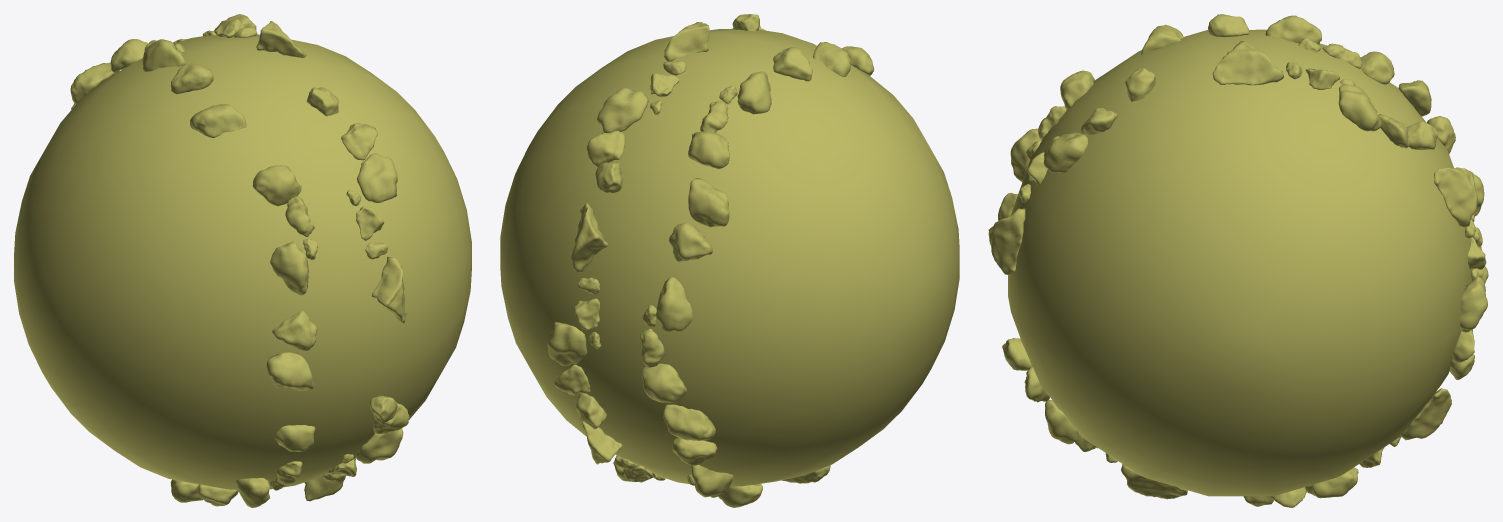
The model's file is Plant01.fbx.
The picture shows the model from 3 angles, left to right: view 1: azimuth 30°, elevation 25°; view 2: azimuth 150°, elevation 25°; view 3: azimuth 270°, elevation 25°; orthographic projection. The views are drawn at different scales.
Parts seen in each view (by area): view 1: pSphere5, moss_rock_002 (×4), moss_rock_006 (×3), moss_rock_001 (×3), moss_rock_008 (×3), moss_rock_010 (×3), moss_rock_007 (×2), moss_rock_009 (×2), moss_rock_013 (×2), moss_rock_003, moss_rock_012; view 2: pSphere5, moss_rock_002 (×3), moss_rock_001 (×4), moss_rock_006 (×3), moss_rock_008 (×3), moss_rock_010 (×3), moss_rock_007 (×2), moss_rock_009 (×2), moss_rock_013 (×2), moss_rock_003 (×2), moss_rock_012 (×2); view 3: pSphere5, moss_rock_008 (×5), moss_rock_007 (×5), moss_rock_013 (×3), moss_rock_006 (×2), moss_rock_001 (×2), moss_rock_002 (×2), moss_rock_010 (×2), moss_rock_009 (×2).
Part boxes in pixels (left/top/right/bottom): pSphere5: left=14, top=34, right=471, bottom=489; moss_rock_002 (×4): left=70, top=62, right=313, bottom=502; moss_rock_006 (×3): left=142, top=39, right=309, bottom=507; moss_rock_001 (×3): left=110, top=39, right=315, bottom=451; moss_rock_008 (×3): left=256, top=21, right=407, bottom=501; moss_rock_010 (×3): left=170, top=63, right=317, bottom=506; moss_rock_007 (×2): left=356, top=153, right=403, bottom=463; moss_rock_009 (×2): left=341, top=123, right=409, bottom=433; moss_rock_013 (×2): left=306, top=87, right=397, bottom=424; moss_rock_003: left=285, top=196, right=314, bottom=236; moss_rock_012: left=356, top=206, right=384, bottom=240; pSphere5: left=500, top=28, right=959, bottom=486; moss_rock_002 (×3): left=663, top=42, right=850, bottom=440; moss_rock_001 (×4): left=640, top=46, right=874, bottom=507; moss_rock_006 (×3): left=656, top=71, right=771, bottom=497; moss_rock_008 (×3): left=570, top=22, right=709, bottom=464; moss_rock_010 (×3): left=669, top=47, right=812, bottom=465; moss_rock_007 (×2): left=547, top=87, right=648, bottom=366; moss_rock_009 (×2): left=554, top=130, right=624, bottom=395; moss_rock_013 (×2): left=576, top=162, right=622, bottom=429; moss_rock_003 (×2): left=640, top=101, right=728, bottom=367; moss_rock_012 (×2): left=574, top=73, right=679, bottom=330; pSphere5: left=1008, top=29, right=1473, bottom=496; moss_rock_008 (×5): left=988, top=41, right=1477, bottom=499; moss_rock_007 (×5): left=1043, top=84, right=1487, bottom=498; moss_rock_013 (×3): left=1002, top=68, right=1438, bottom=370; moss_rock_006 (×2): left=1010, top=15, right=1321, bottom=182; moss_rock_001 (×2): left=1060, top=51, right=1394, bottom=109; moss_rock_002 (×2): left=1141, top=24, right=1431, bottom=116; moss_rock_010 (×2): left=1208, top=14, right=1455, bottom=153; moss_rock_009 (×2): left=1080, top=107, right=1410, bottom=148.
Size of the model in its own units: 1000 by 1079 by 1061.
